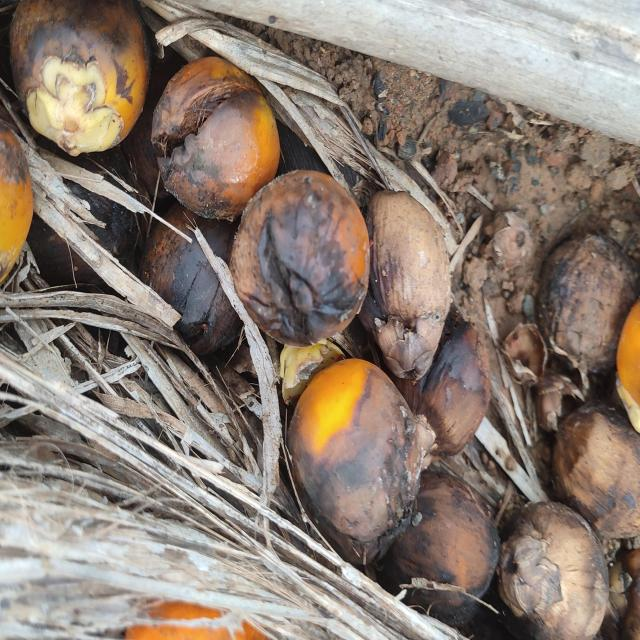damaged: (288, 359, 435, 563), (229, 170, 369, 346), (151, 57, 280, 220), (498, 501, 608, 640), (383, 469, 500, 597), (537, 233, 640, 375), (408, 590, 480, 627)
